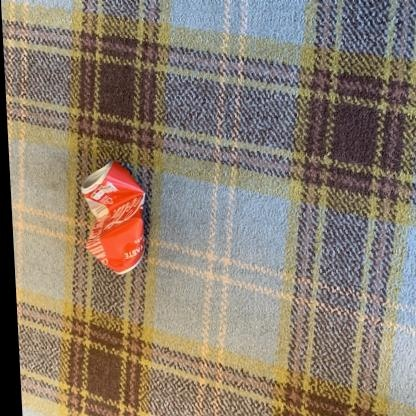trash: (81, 161, 144, 273)
